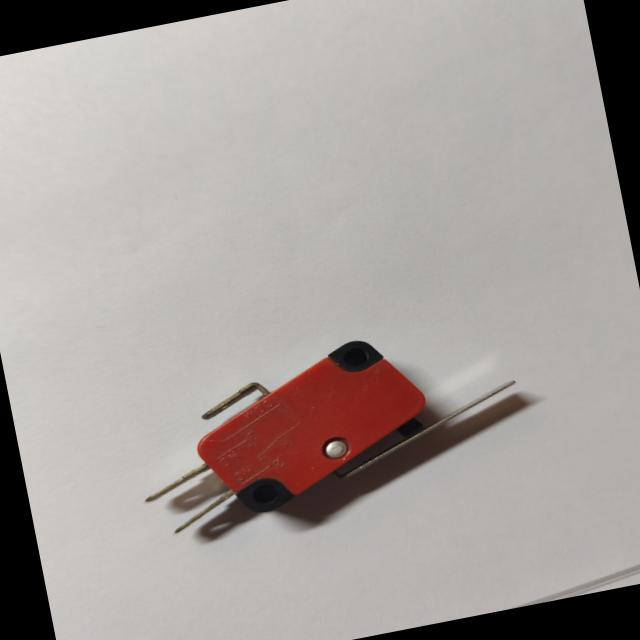switch: (111, 300, 546, 554)
